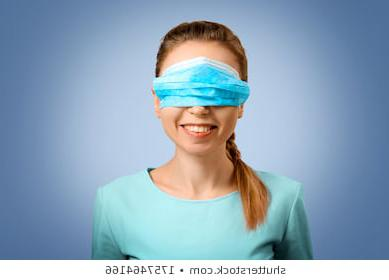mask_weared_incorrect: (151, 53, 240, 151)
